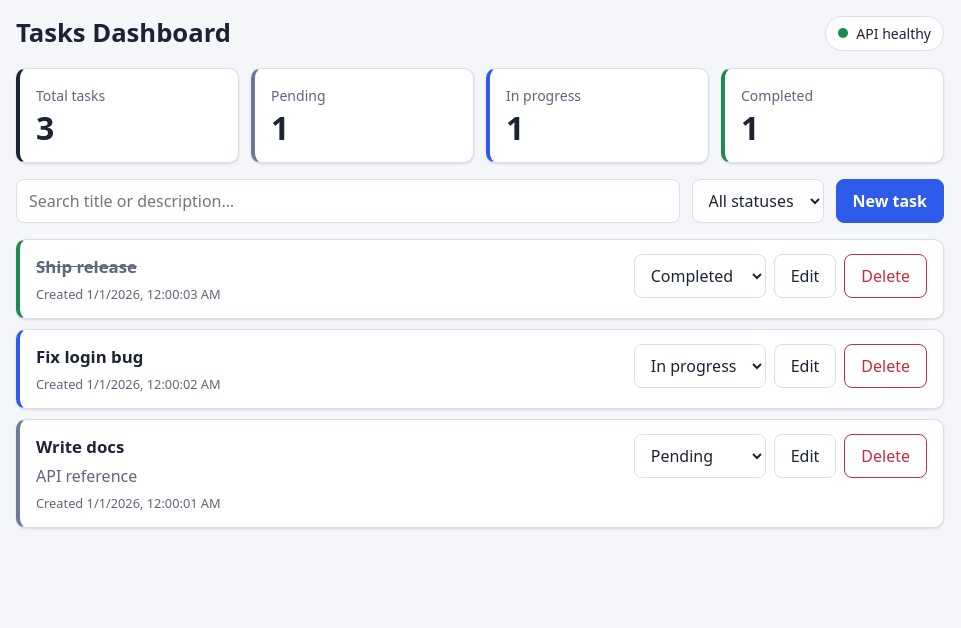
edit and status › shows a dismissible error when a status change fails
Expected: the heading "Write docs" is shown, [36,435,124,458]
Select "Completed" in the dropdown named "Status for Write docs" in the row of "Write docs" at (700, 456), box [634,434,766,478]
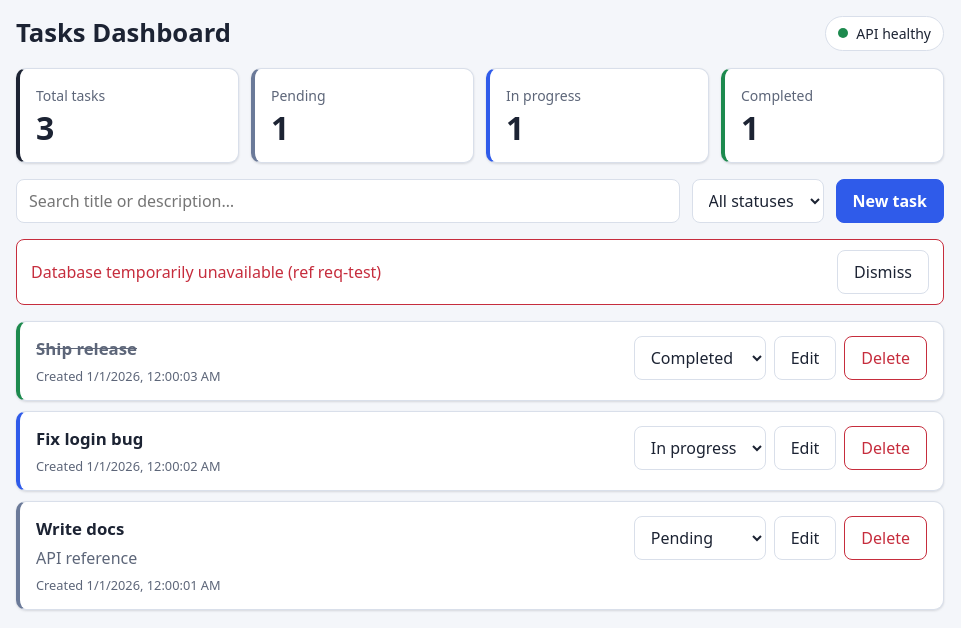
Expected: the message "Database temporarily unavailable (ref req-test) Dismiss" is shown, [16,239,944,305]
Click the button "Dismiss" at (883, 272), box [837,250,929,294]
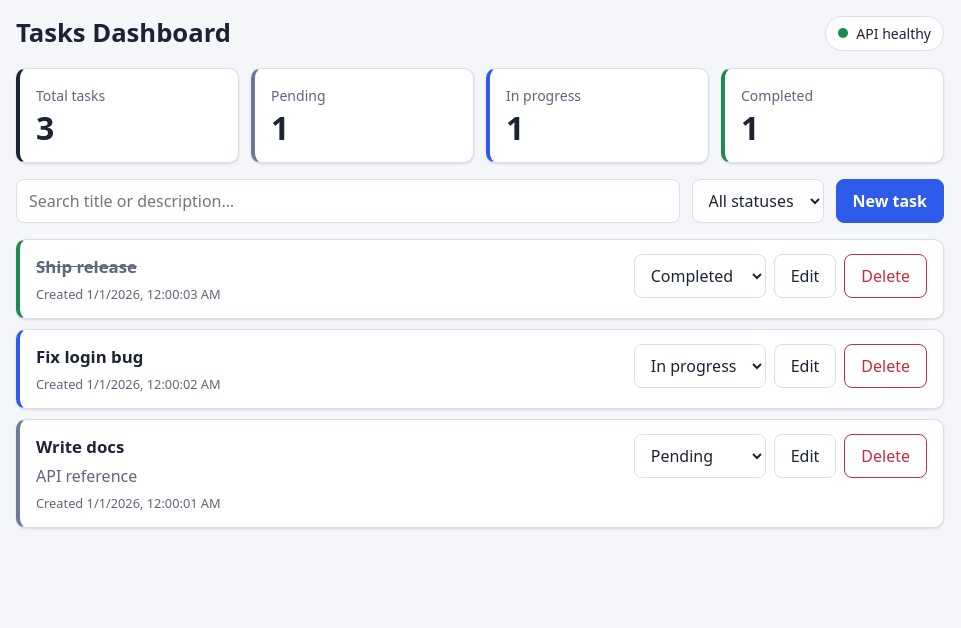
Expected: the message "Database temporarily unavailable (ref req-test) Dismiss" is gone
